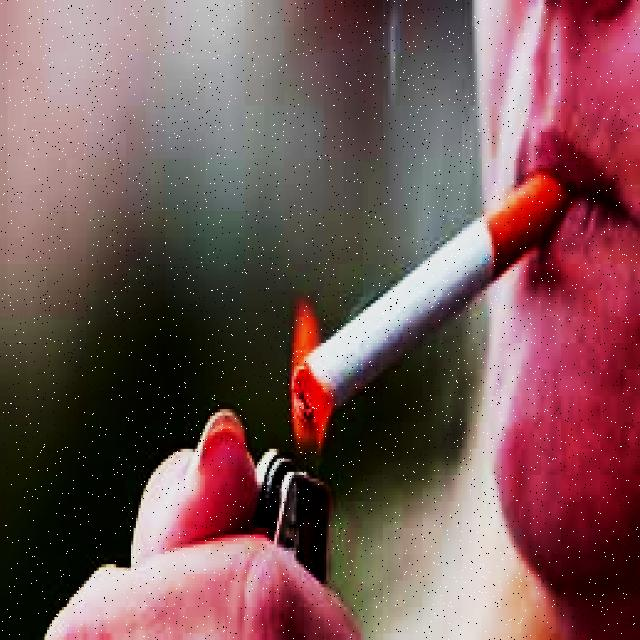api: (283, 308, 349, 470)
